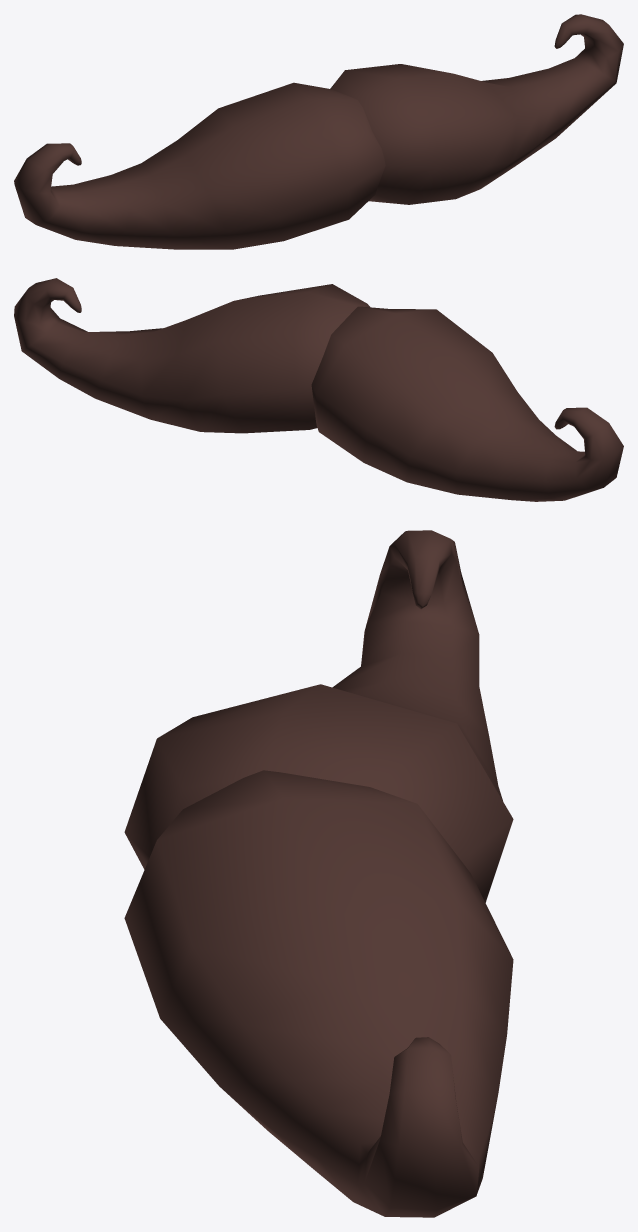
File: Mustache_Brown_007.glb
3 renders of one model, top to bottom at view 1: azimuth 30°, elevation 25°; view 2: azimuth 150°, elevation 25°; view 3: azimuth 270°, elevation 25°, orthographic. The views are drawn at different scales.
Parts seen in each view (by area): view 1: Mustache_Brown_007; view 2: Mustache_Brown_007; view 3: Mustache_Brown_007.
Boxes of the visible parts, bbox=[...] form: Mustache_Brown_007: bbox=[14, 14, 623, 249]; Mustache_Brown_007: bbox=[14, 278, 623, 501]; Mustache_Brown_007: bbox=[124, 530, 513, 1217].
Bounding box in the file's own units: 0.245 × 0.052 × 0.0686.
Materials: 1 (1 with a texture image).
